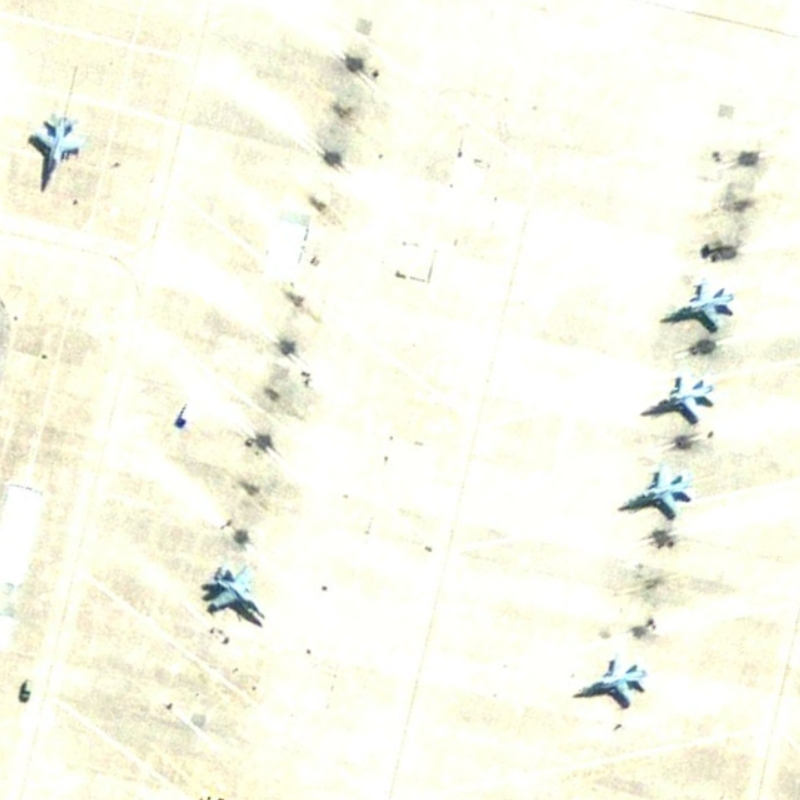A16: (652, 273, 740, 342), (21, 111, 87, 197), (632, 366, 718, 432), (611, 464, 698, 525), (568, 650, 649, 713), (197, 556, 270, 624)
